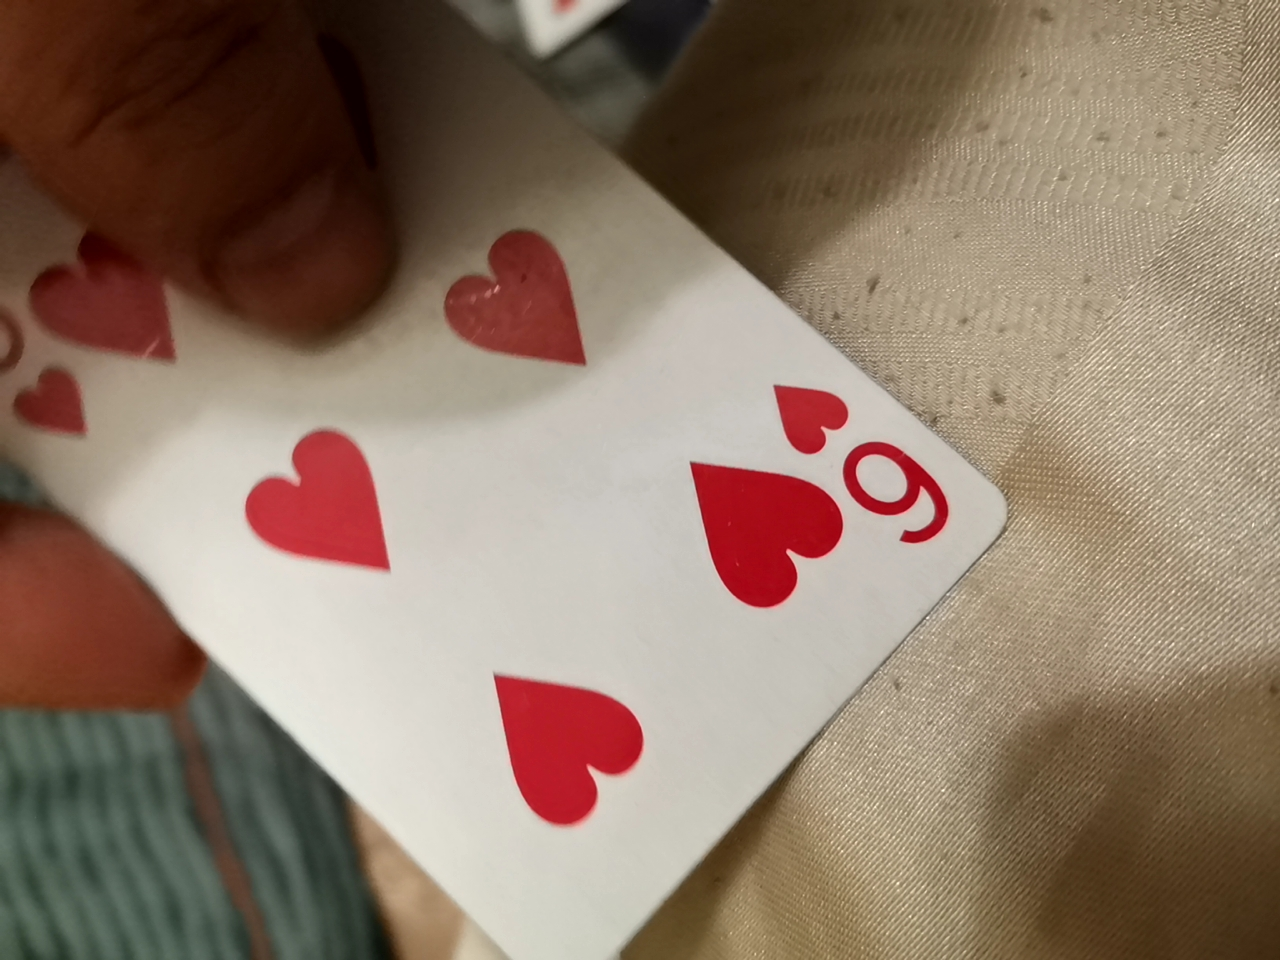hx 6: (46, 54, 1023, 956)
